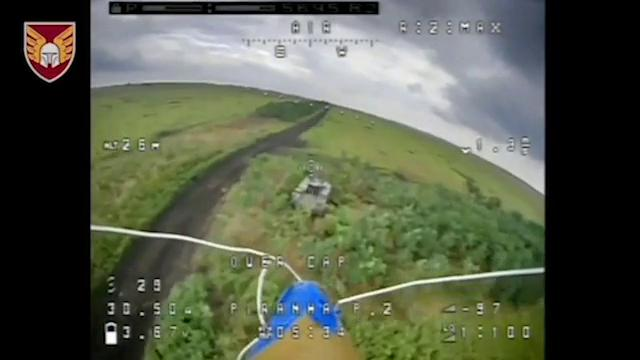tank: (291, 162, 334, 216)
